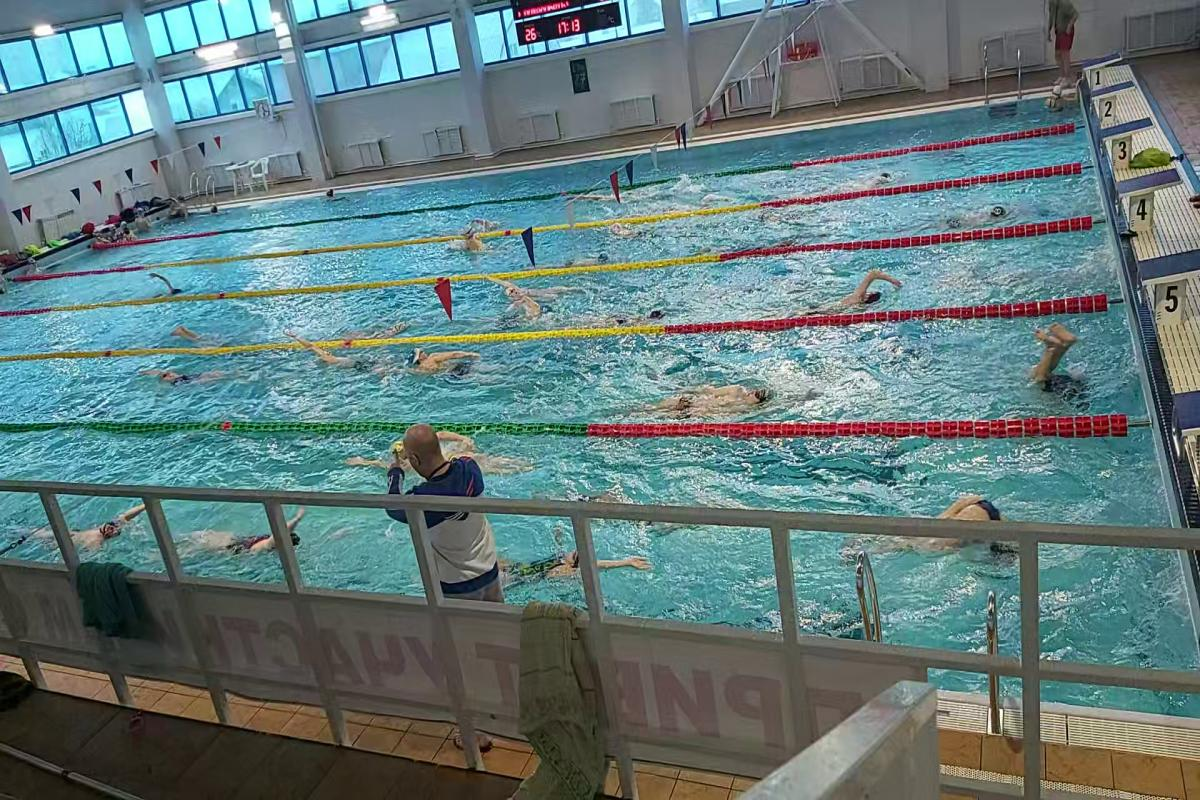swimmer: (876, 486, 1015, 562), (490, 534, 651, 594), (15, 496, 139, 560), (1003, 328, 1115, 396), (657, 375, 790, 420), (182, 520, 299, 565), (822, 246, 904, 305), (392, 342, 488, 384), (144, 368, 267, 396), (474, 286, 552, 326), (922, 199, 1008, 234), (300, 344, 376, 372), (446, 224, 500, 262), (151, 276, 218, 299), (162, 318, 216, 344), (852, 174, 904, 190), (578, 240, 618, 260)
